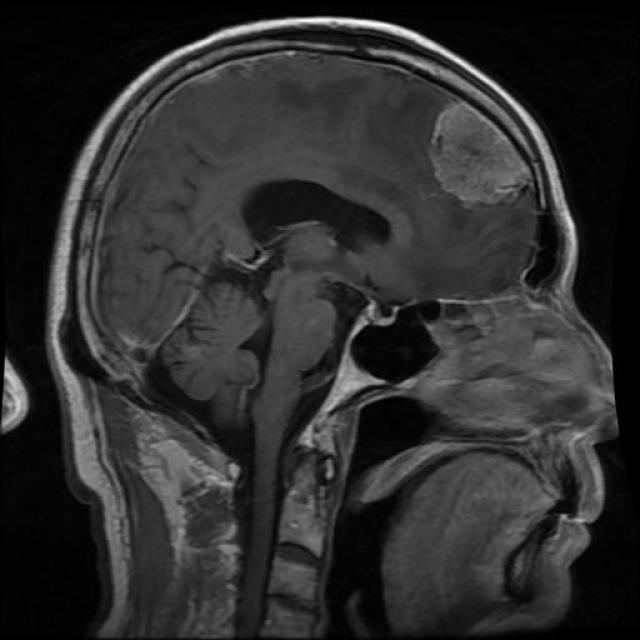meningioma: (429, 102, 534, 206)
